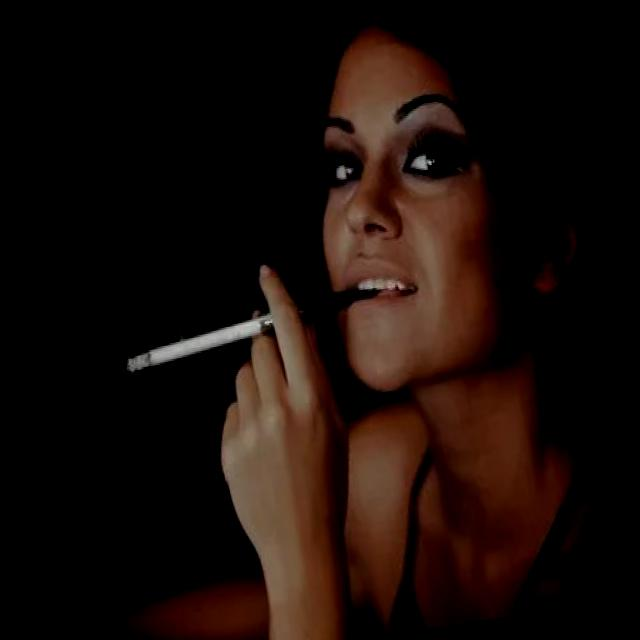cigarette: (118, 296, 283, 378)
